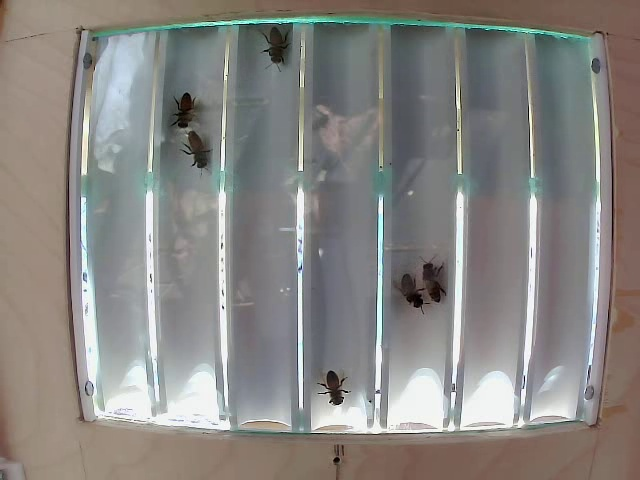bee: (174, 118, 221, 185), (313, 357, 351, 409), (258, 27, 296, 77), (398, 269, 431, 319), (169, 87, 210, 127), (422, 262, 443, 307)
